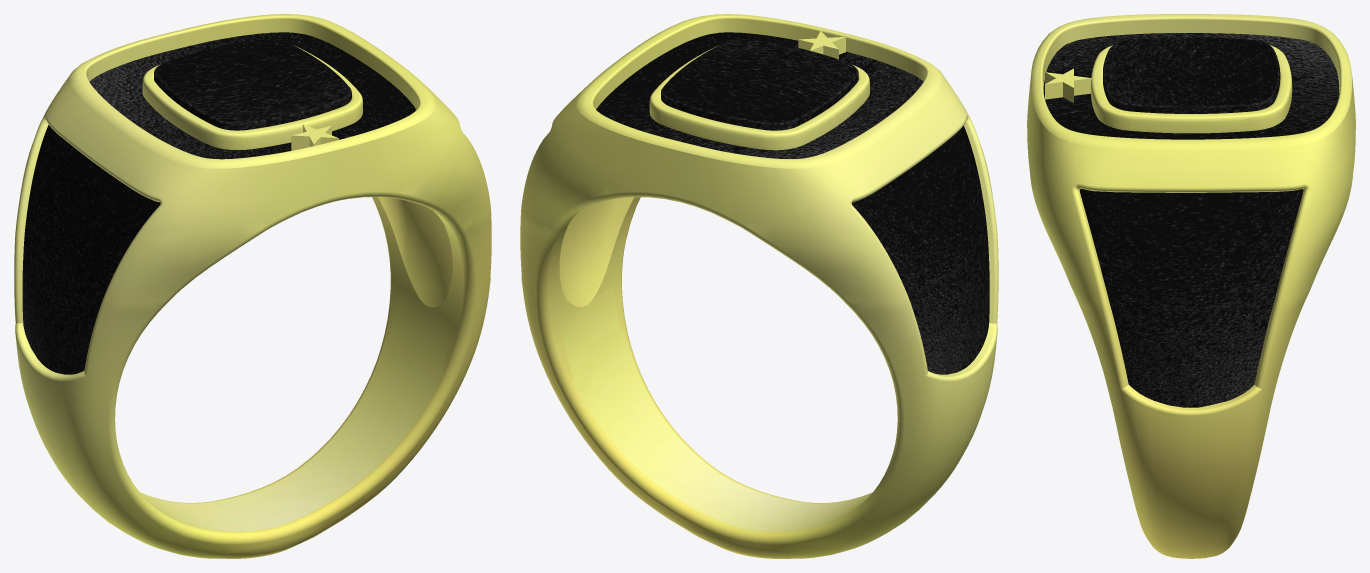
The model's file is ring19.glb.
3 renders of one model, left to right at view 1: azimuth 30°, elevation 25°; view 2: azimuth 150°, elevation 25°; view 3: azimuth 270°, elevation 25°, orthographic.
Visible parts, largest first — view 1: body, black; view 2: body, black; view 3: body, black.
Part boxes in pixels (<box>): body: <box>14,14,491,558</box>; black: <box>22,32,415,374</box>; body: <box>520,14,998,558</box>; black: <box>596,32,989,374</box>; body: <box>1027,14,1355,558</box>; black: <box>1043,33,1339,407</box>.
Size of the model in its own units: 26.18 by 27.04 by 17.36.
2 materials, 2 textured.
